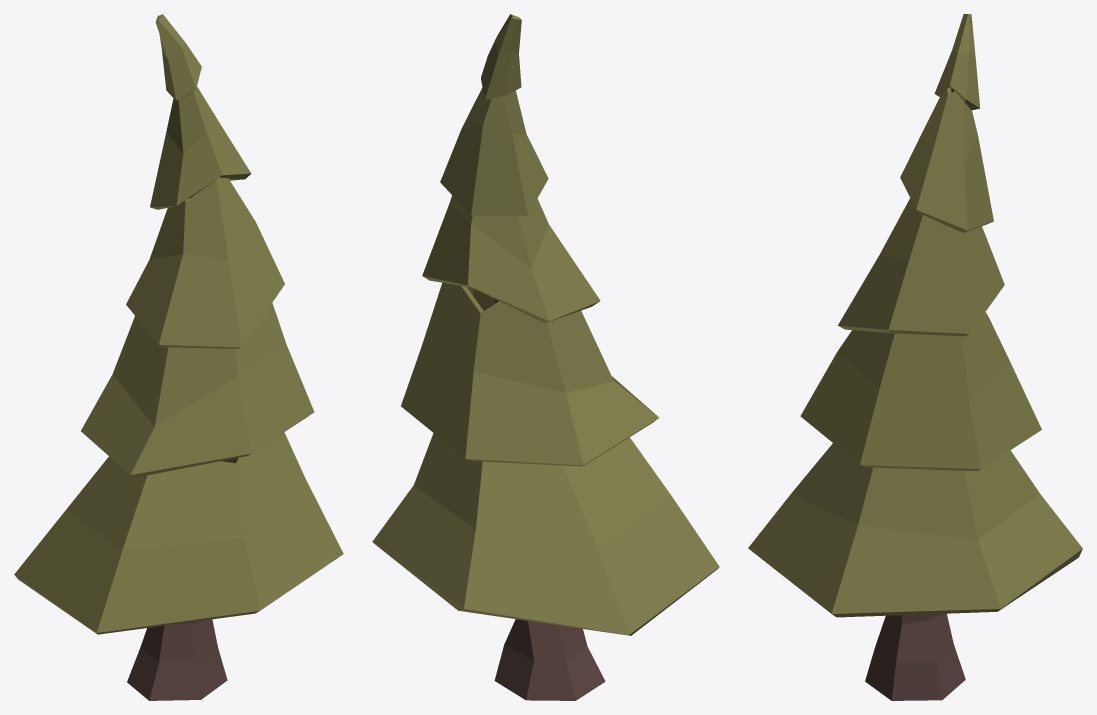
File: Tree_Pine1.fbx
The picture shows the model from 3 angles, left to right: view 1: azimuth 30°, elevation 25°; view 2: azimuth 150°, elevation 25°; view 3: azimuth 270°, elevation 25°; orthographic projection. The views are drawn at different scales.
Visible parts, largest first — view 1: Cylinder.010; view 2: Cylinder.010; view 3: Cylinder.010.
Boxes of the visible parts, box(x1,y1,x2,y2) form: Cylinder.010: box(14, 14, 343, 700); Cylinder.010: box(372, 14, 719, 700); Cylinder.010: box(748, 14, 1082, 700).
Size of the model in its own units: 273 by 681 by 307.
